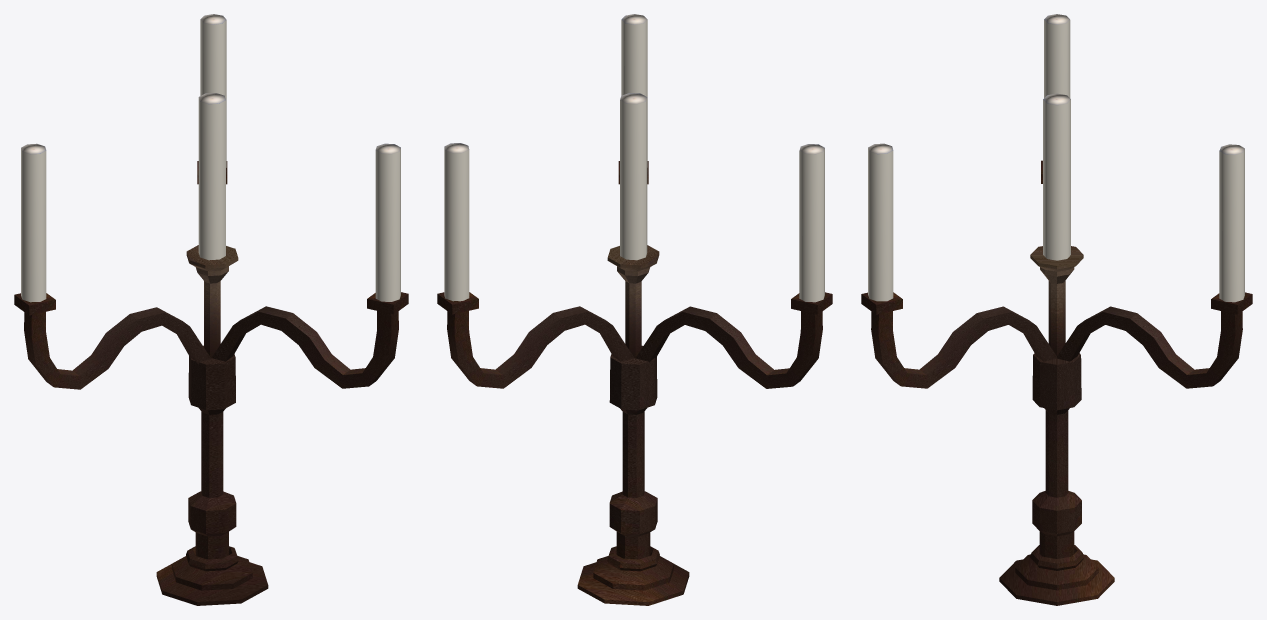
3 views of the same model, side by side, from view 1: azimuth 30°, elevation 25°; view 2: azimuth 150°, elevation 25°; view 3: azimuth 270°, elevation 25° (orthographic).
Visible parts, largest first — view 1: group4_pCube1; view 2: group4_pCube1; view 3: group4_pCube1.
Part boxes in pixels (x1=…): group4_pCube1: x1=14, y1=14, x2=408, y2=605; group4_pCube1: x1=437, y1=14, x2=832, y2=605; group4_pCube1: x1=861, y1=14, x2=1252, y2=605.
Bounding box in the file's own units: 0.3402 × 0.5298 × 0.3897.
1 material, 1 textured.
